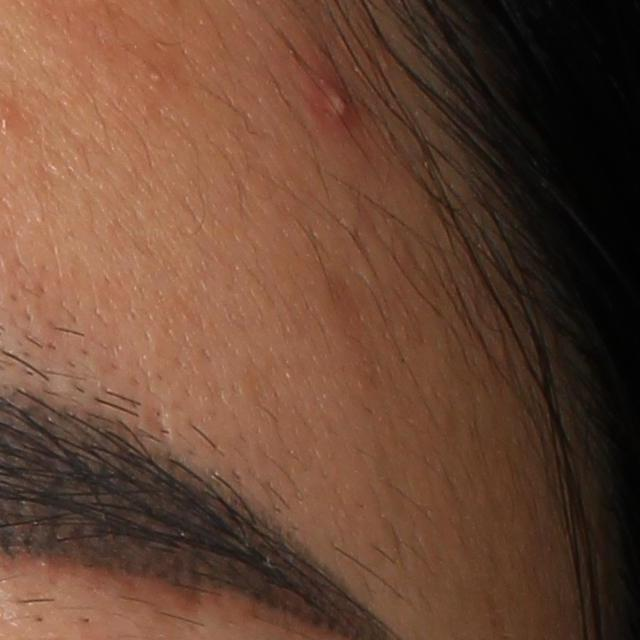pustule: (311, 59, 363, 127)
